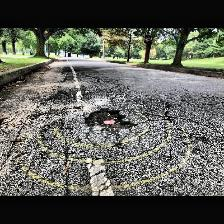pothole: (82, 107, 136, 131)
